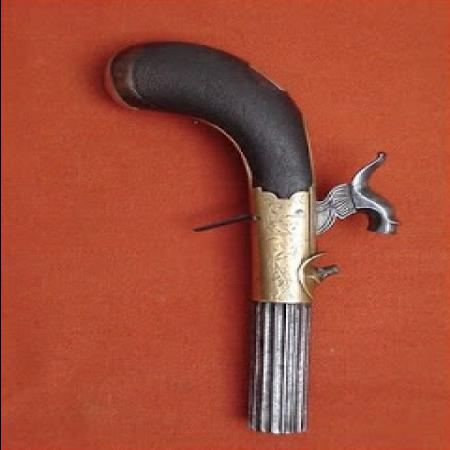Pistol: (103, 32, 407, 434)
